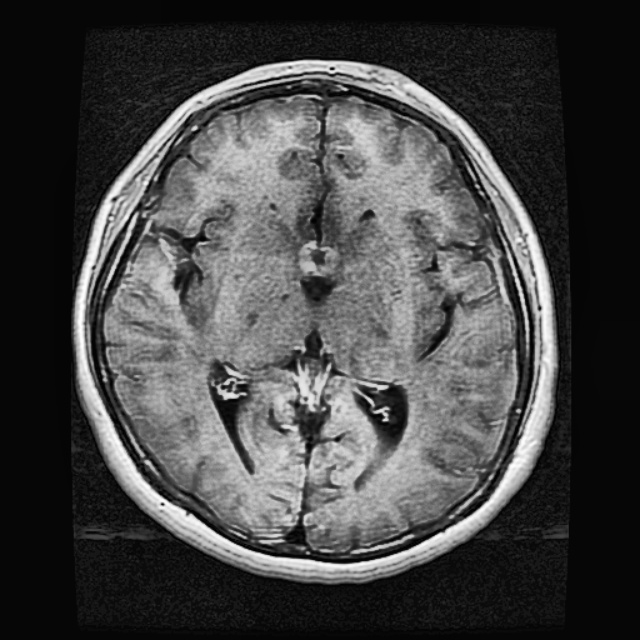Pituitary: (298, 239, 339, 277)
